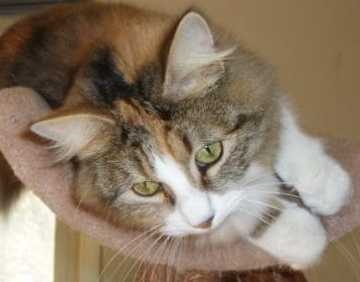Cat: (30, 3, 340, 268)
